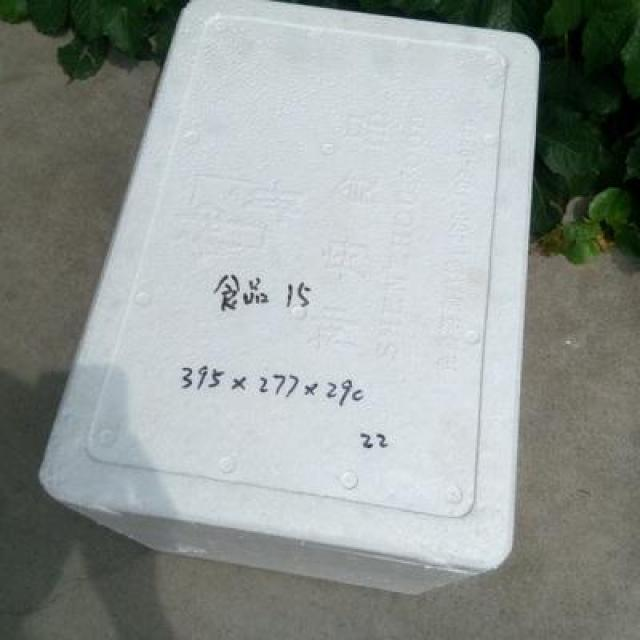styrofoam: (35, 0, 541, 597)
